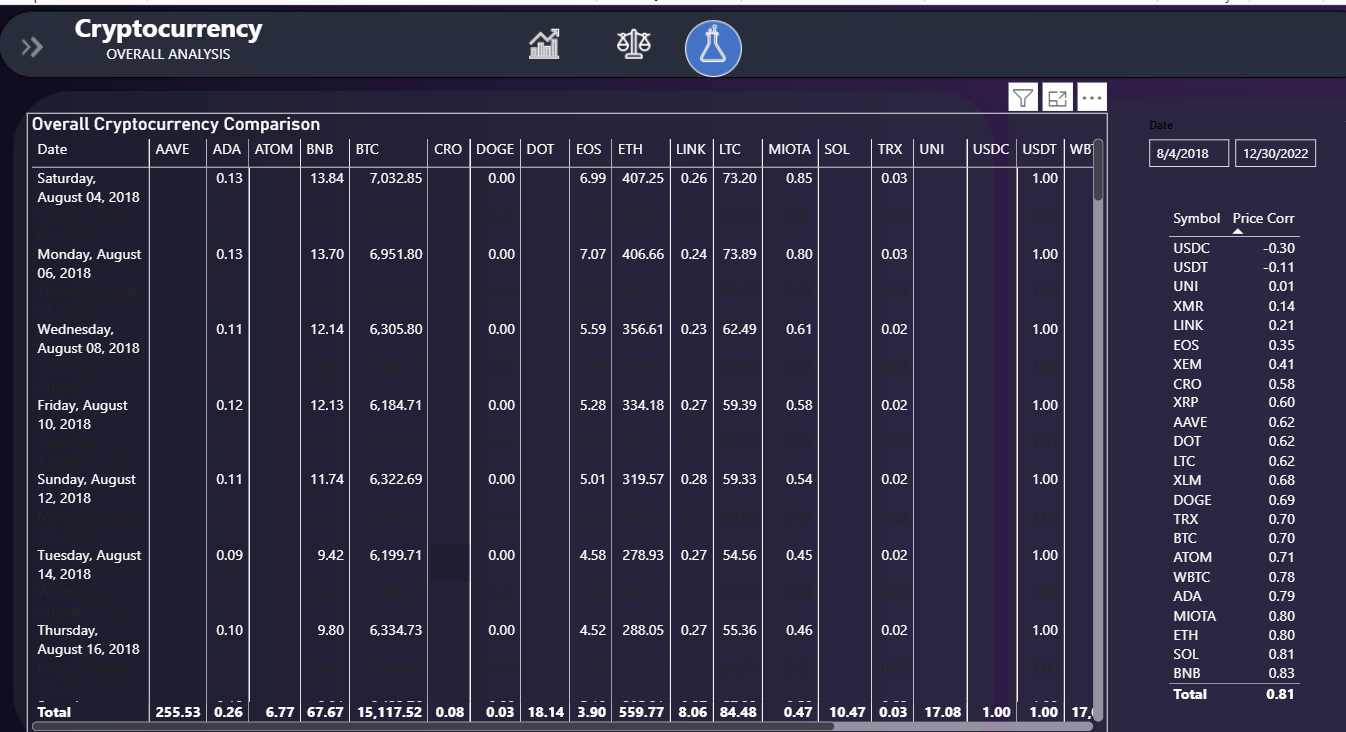

What the dashboard file says about the page in this screenshot:
{"tool":"powerbi","page":{"name":"Overall Analysis","canvas":[1280,720],"ordinal":3},"visuals":[{"type":"pivotTable","title":"Overall Cryptocurrency Comparison","fields":{"Columns":["Crypto symbols.Symbol"],"Rows":["Crypto prices.Date"],"Values":["Key Measures.Close Price"]},"box":[26.8,101,1006.2,580.4],"z":0},{"type":"slicer","fields":{"Values":["Dates.Date"]},"box":[1058.6,101,216.6,74.2],"z":1000},{"type":"tableEx","fields":{"Values":["Crypto symbols.Symbol","Crypto prices.Price / Value Correlation"]},"box":[1082.9,184.9,153.3,496.4],"z":2000},{"type":"textbox","box":[58.4,0,200.8,79.1],"z":3000},{"type":"actionButton","box":[470.9,14.6,81.5,53.5],"z":4000},{"type":"actionButton","box":[562.1,14.6,66.9,53.5],"z":5000},{"type":"actionButton","box":[11,7.3,40.2,66.9],"z":6000}]}

Visuals, with their boxes on the page's 1280x720 design canvas (x1, y1, x2, y2). These are canvas units, not pixel positions in the 1346x732 screenshot, which may show the page scaled, cropped or inside an application window:
"Overall Cryptocurrency Comparison" pivotTable: x1=27, y1=101, x2=1033, y2=681
slicer - Dates.Date: x1=1059, y1=101, x2=1275, y2=175
tableEx - Crypto symbols.Symbol x Crypto prices.Price / Value Correlation: x1=1083, y1=185, x2=1236, y2=681
textbox: x1=58, y1=0, x2=259, y2=79
actionButton: x1=471, y1=15, x2=552, y2=68
actionButton: x1=562, y1=15, x2=629, y2=68
actionButton: x1=11, y1=7, x2=51, y2=74
